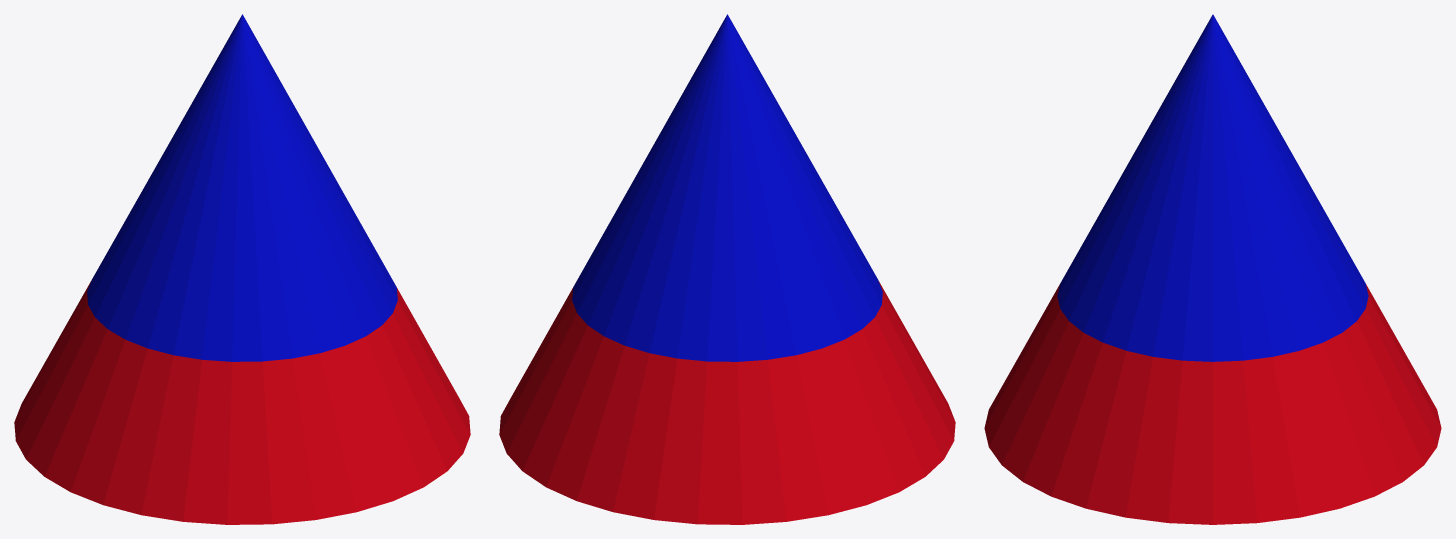
The model's file is Conus.fbx.
The picture shows the model from 3 angles, left to right: view 1: azimuth 30°, elevation 25°; view 2: azimuth 150°, elevation 25°; view 3: azimuth 270°, elevation 25°; orthographic projection.
Visible parts, largest first — view 1: Cone; view 2: Cone; view 3: Cone.
Part boxes in pixels (x1,y1,x2,y2): Cone: (14,14,470,524); Cone: (499,14,955,524); Cone: (984,14,1441,524).
Bounding box in the file's own units: 881 × 881 × 881.
